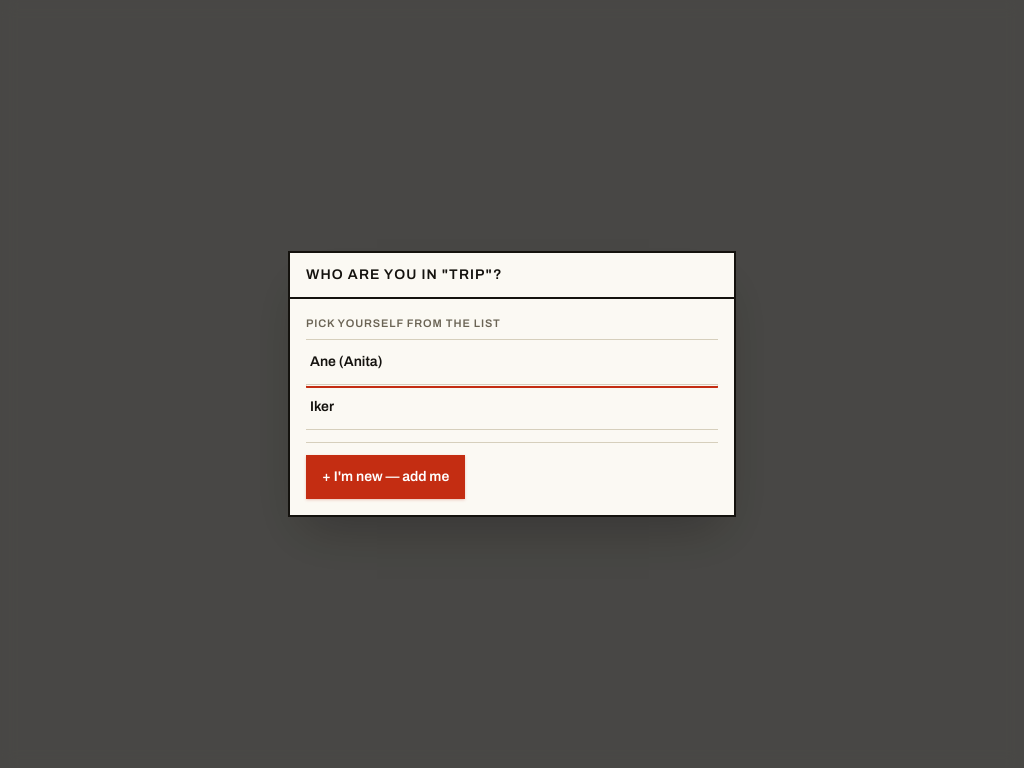
Test: IdentificationModal › shows why the pick failed and lets you try again
The width and height of the screenshot is (1024, 768).
Click the button "Iker". click: (322, 407)
box: [306,385,718,429]
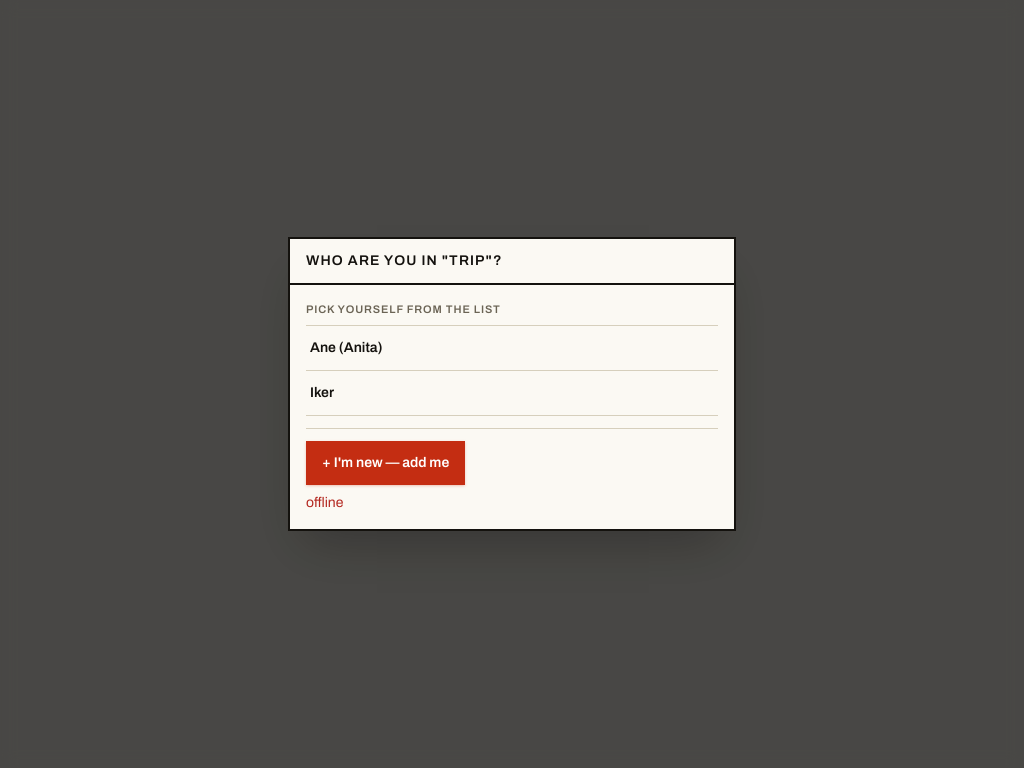
Expected: the button "Iker" is enabled, [306,371,718,415]
Now the text "offline" is shown, box [306,495,343,510]
